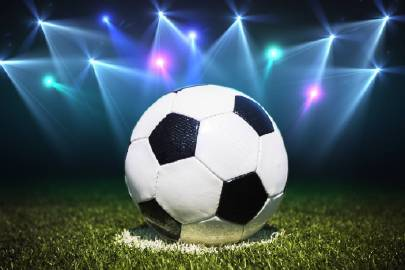football: (117, 78, 301, 251)
